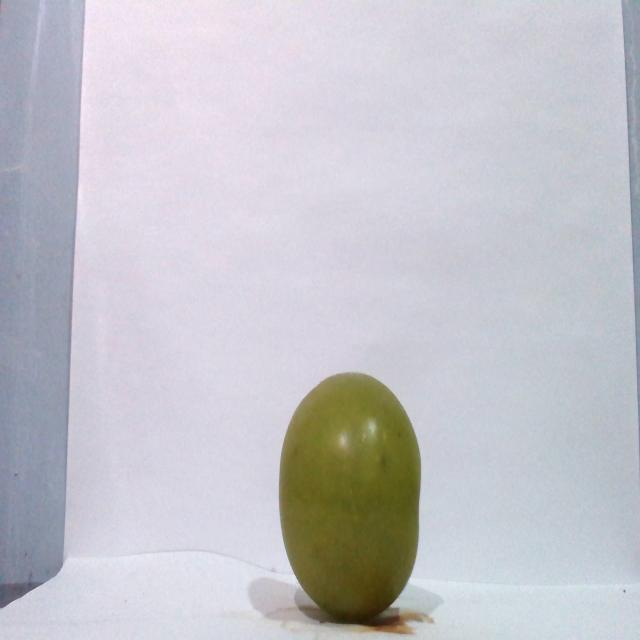Red: (277, 370, 422, 622)
